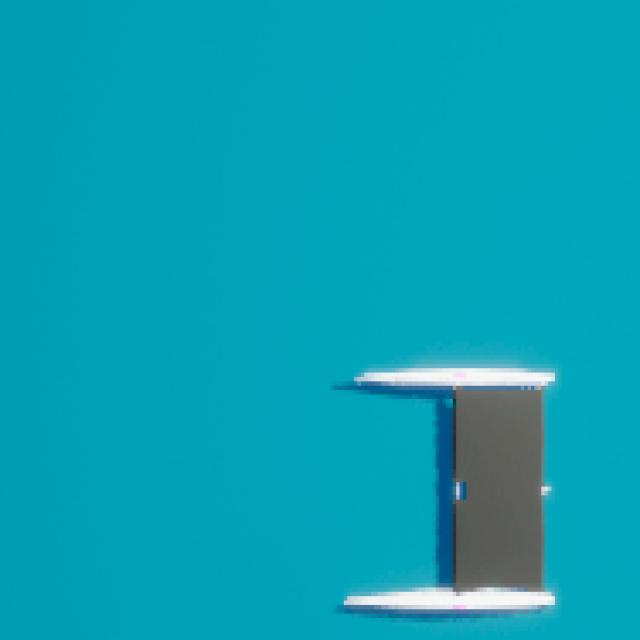boat: (342, 360, 559, 628)
drone: (455, 389, 542, 589)
